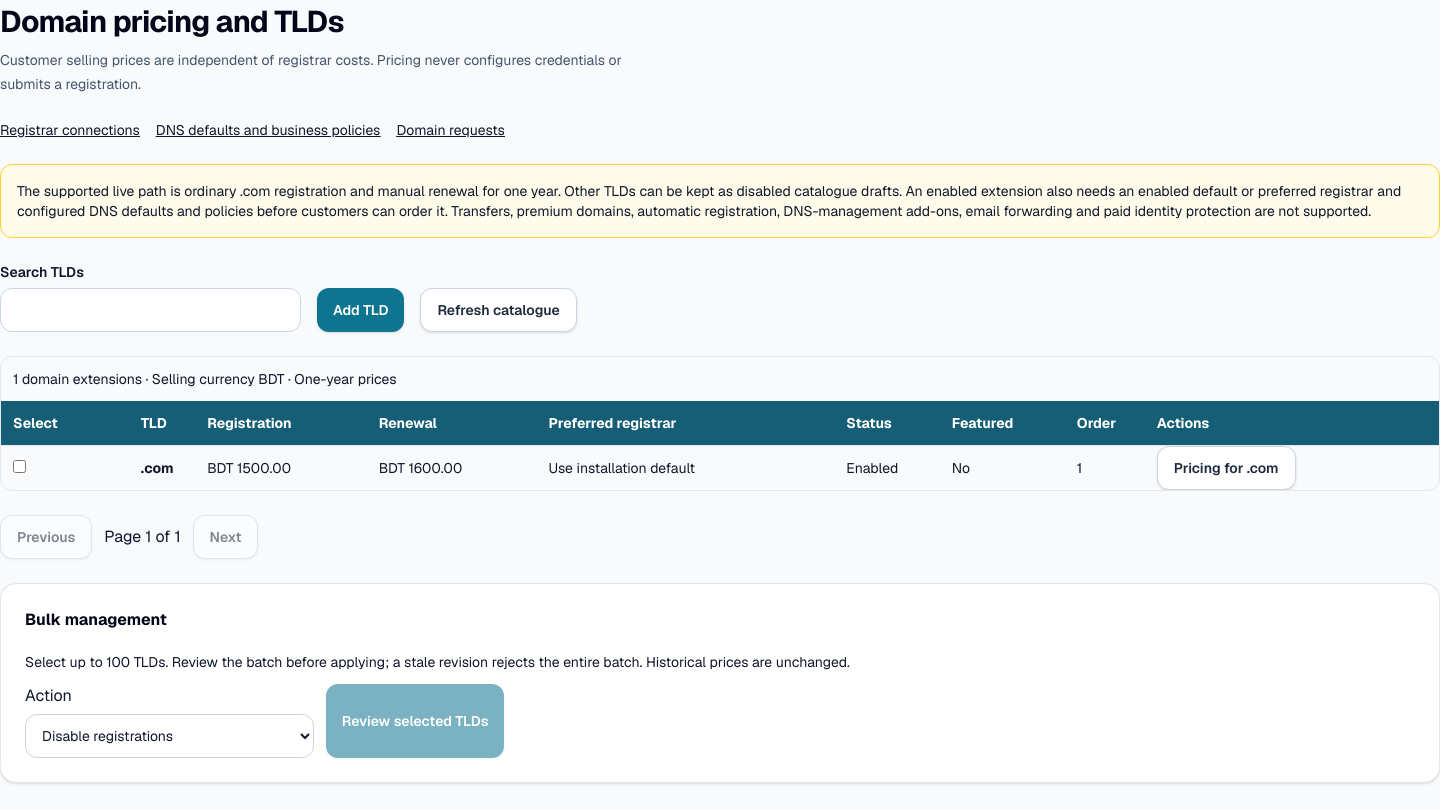
Scenario: TLD catalogue › edits exact BDT prices separately from credentials and posts a revision
This screenshot has width=1440, height=810.
Click the button "Pricing for .com" at (1226, 468), box [1157, 446, 1296, 490]
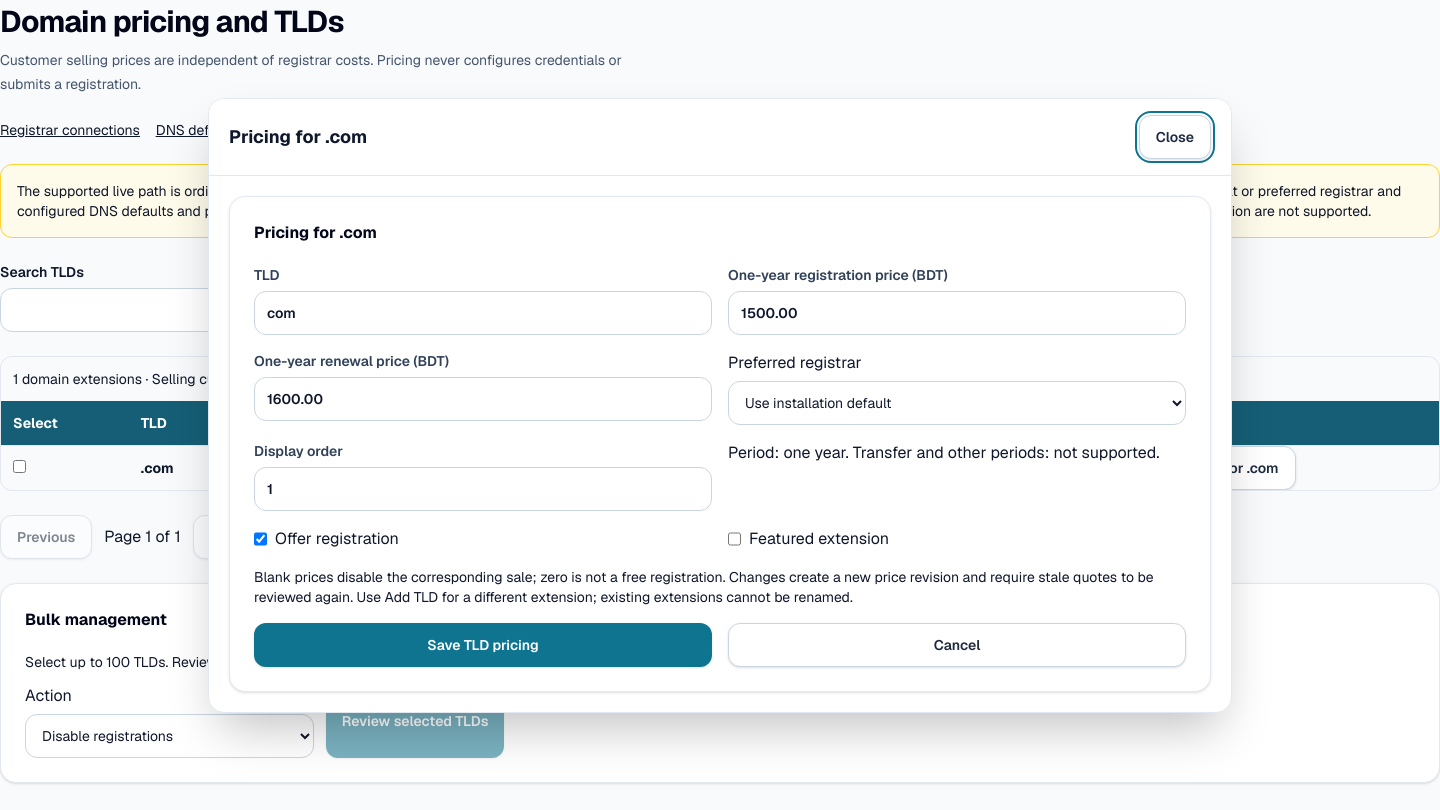
Type "1500.01" into the field labelled "One-year registration price (BDT)" at (957, 312), box [728, 290, 1186, 334]
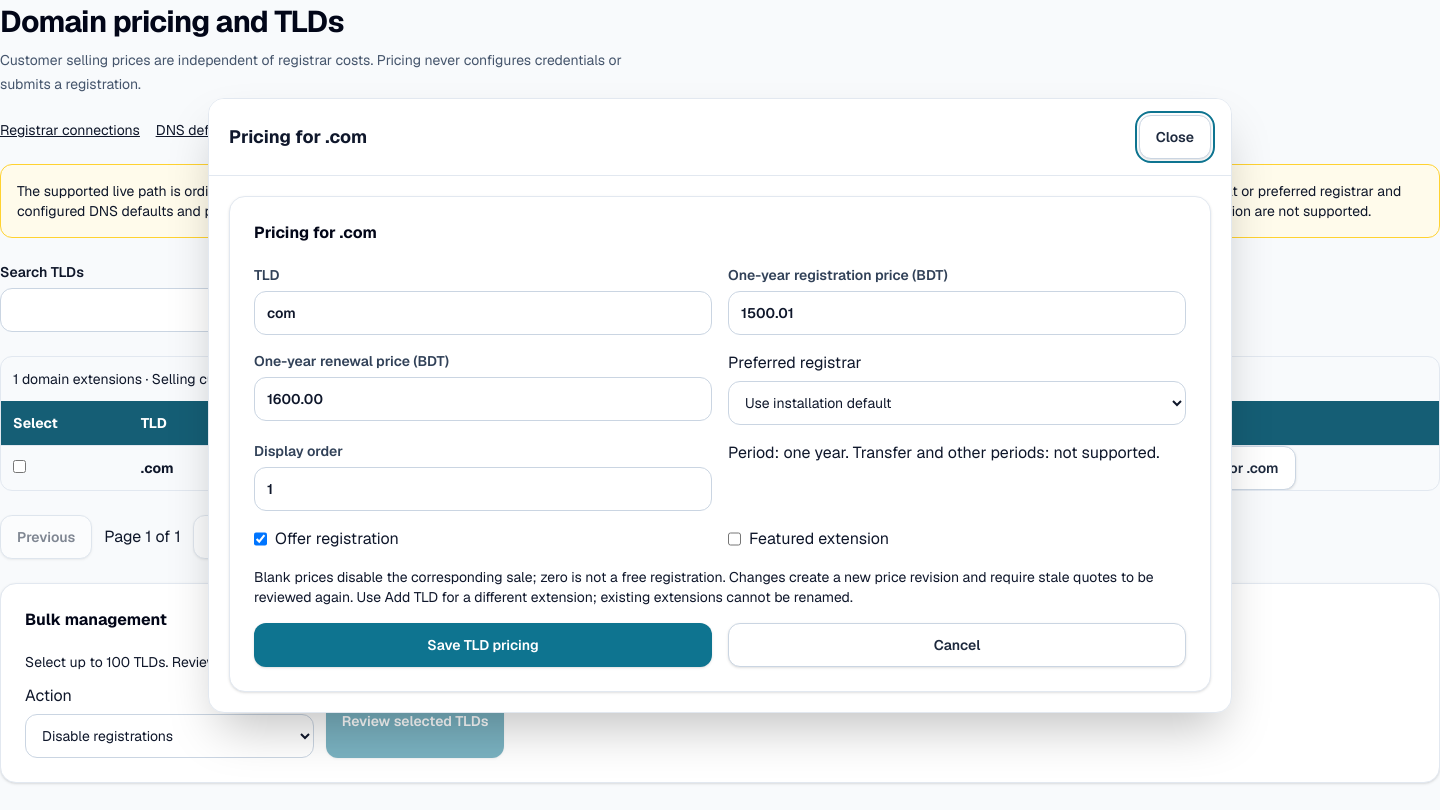
Click the button "Save TLD pricing" at (483, 644), box [254, 622, 712, 666]
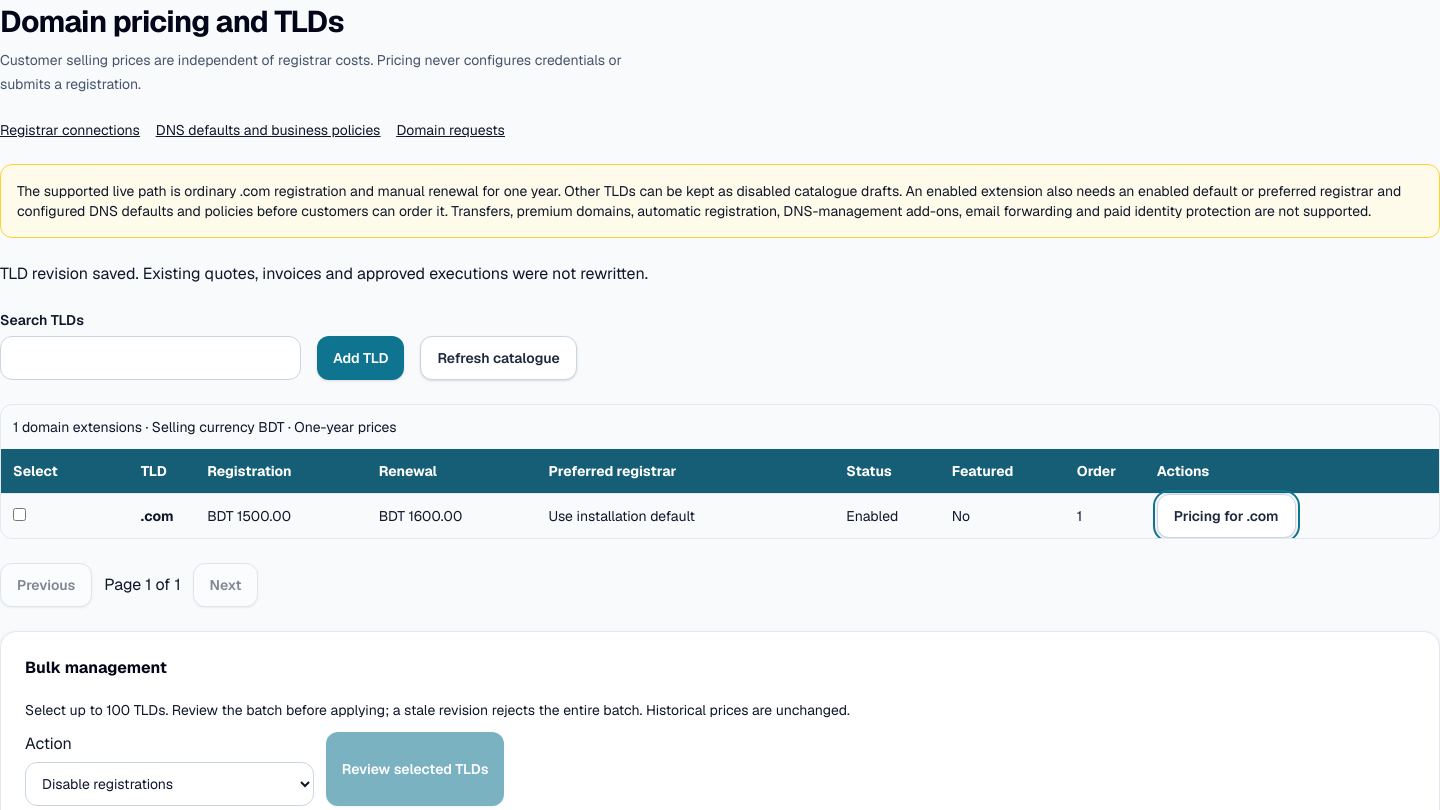
Result: the text "TLD revision saved" is shown at [0, 263, 648, 284]
